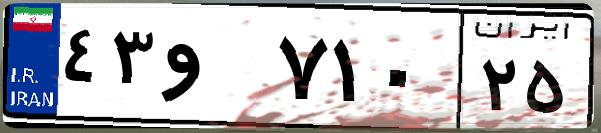0: (385, 28, 445, 110)
1: (330, 28, 385, 110)
2: (475, 38, 525, 113)
3: (110, 28, 158, 98)
4: (57, 26, 110, 100)
5: (525, 38, 570, 115)
7: (270, 28, 330, 110)
و: (158, 20, 270, 120)
